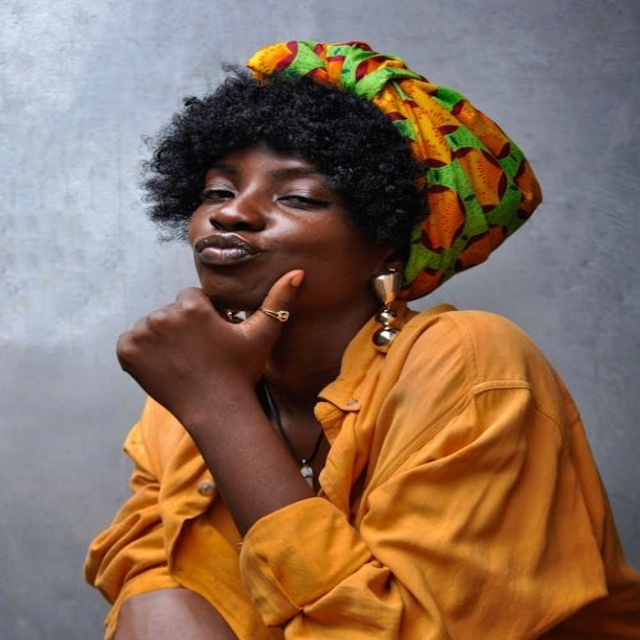Sin_gafas: (195, 168, 320, 210)
Sin_guantes: (114, 268, 311, 410)
Sin_mascara: (187, 230, 262, 288)
